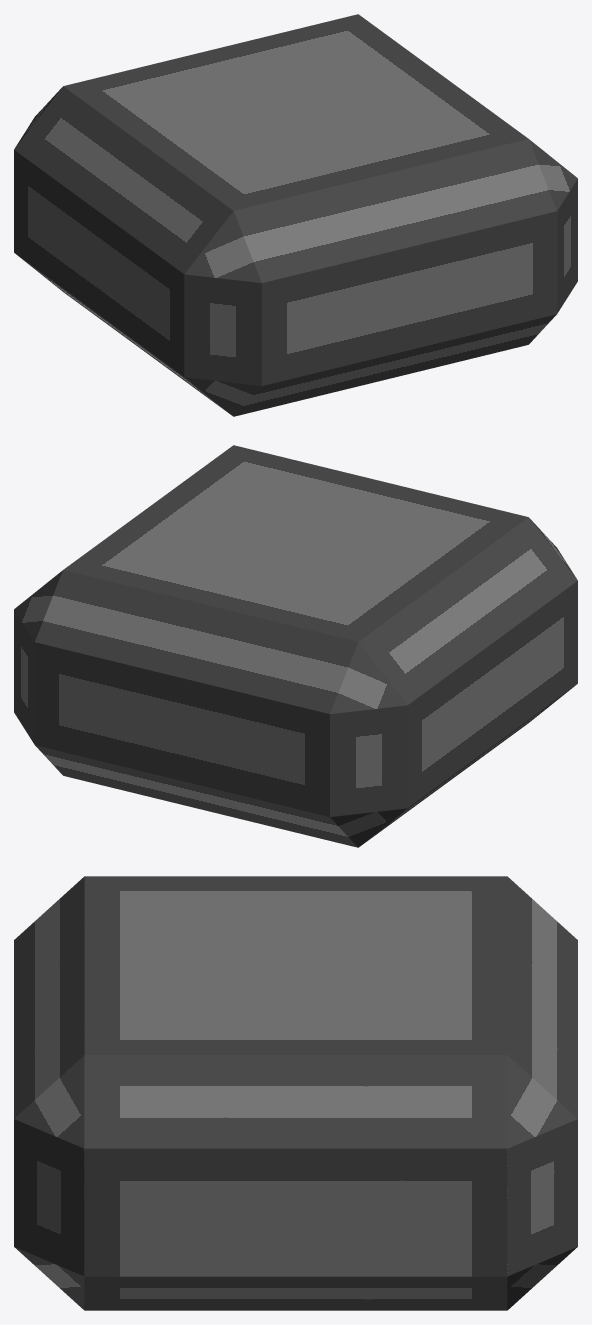
The model's file is Nowy Model Test.fbx.
The picture shows the model from 3 angles, top to bottom: view 1: azimuth 30°, elevation 25°; view 2: azimuth 150°, elevation 25°; view 3: azimuth 270°, elevation 25°; orthographic projection. The views are drawn at different scales.
Visible parts, largest first — view 1: beveled_cuboid; view 2: beveled_cuboid; view 3: beveled_cuboid.
Boxes of the visible parts, box(x1,y1,x2,y2) form: beveled_cuboid: box(14, 14, 577, 416); beveled_cuboid: box(14, 445, 577, 847); beveled_cuboid: box(14, 876, 577, 1310).
Size of the model in its own units: 100 by 50 by 100.
1 material, 1 textured.
